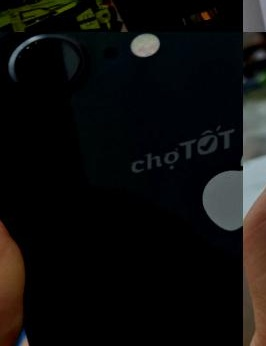scratch: (0, 32, 36, 94)
